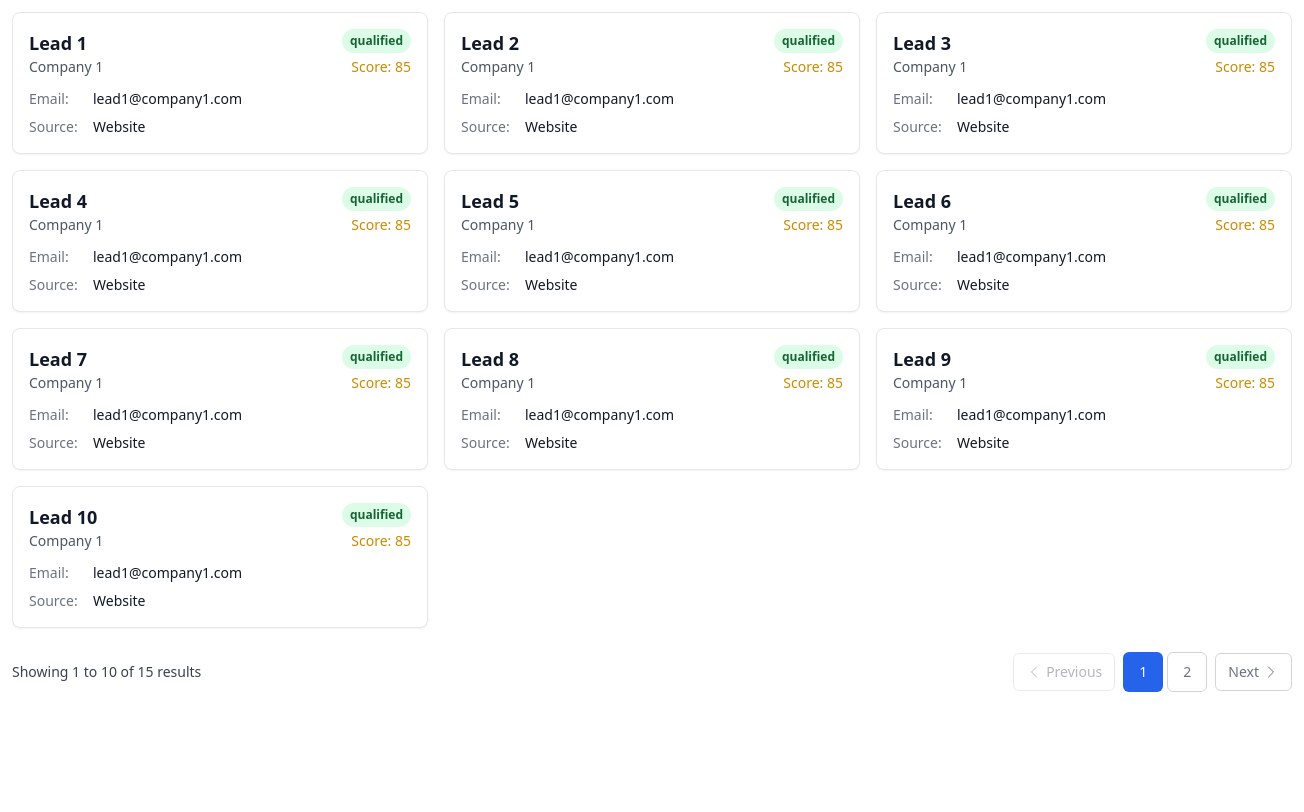
Test case: LeadsGrid › navigates to next page when Next button is clicked
Click the button "Next" at (1254, 672), box [1215,653,1292,691]
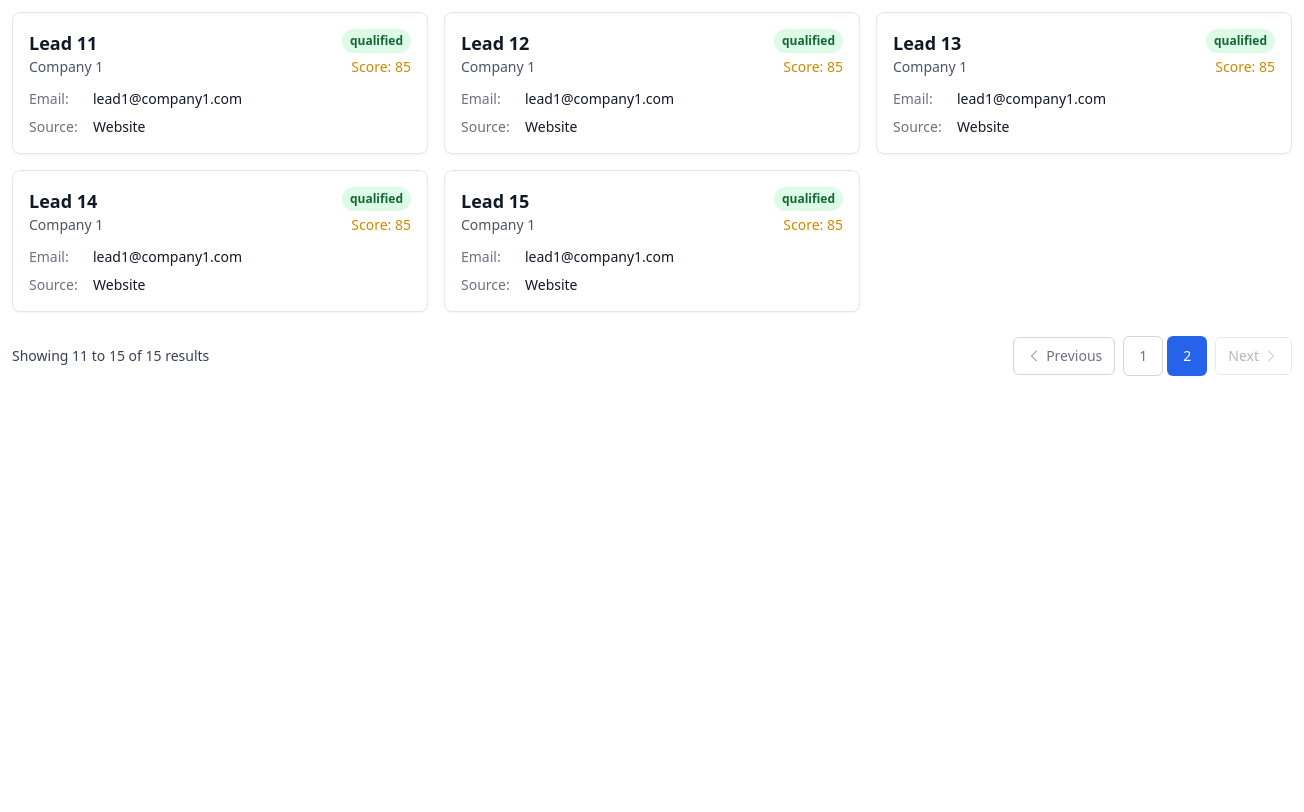
Result: the text "Showing 11 to 15 of 15 results" is shown at [12,346,209,366]
